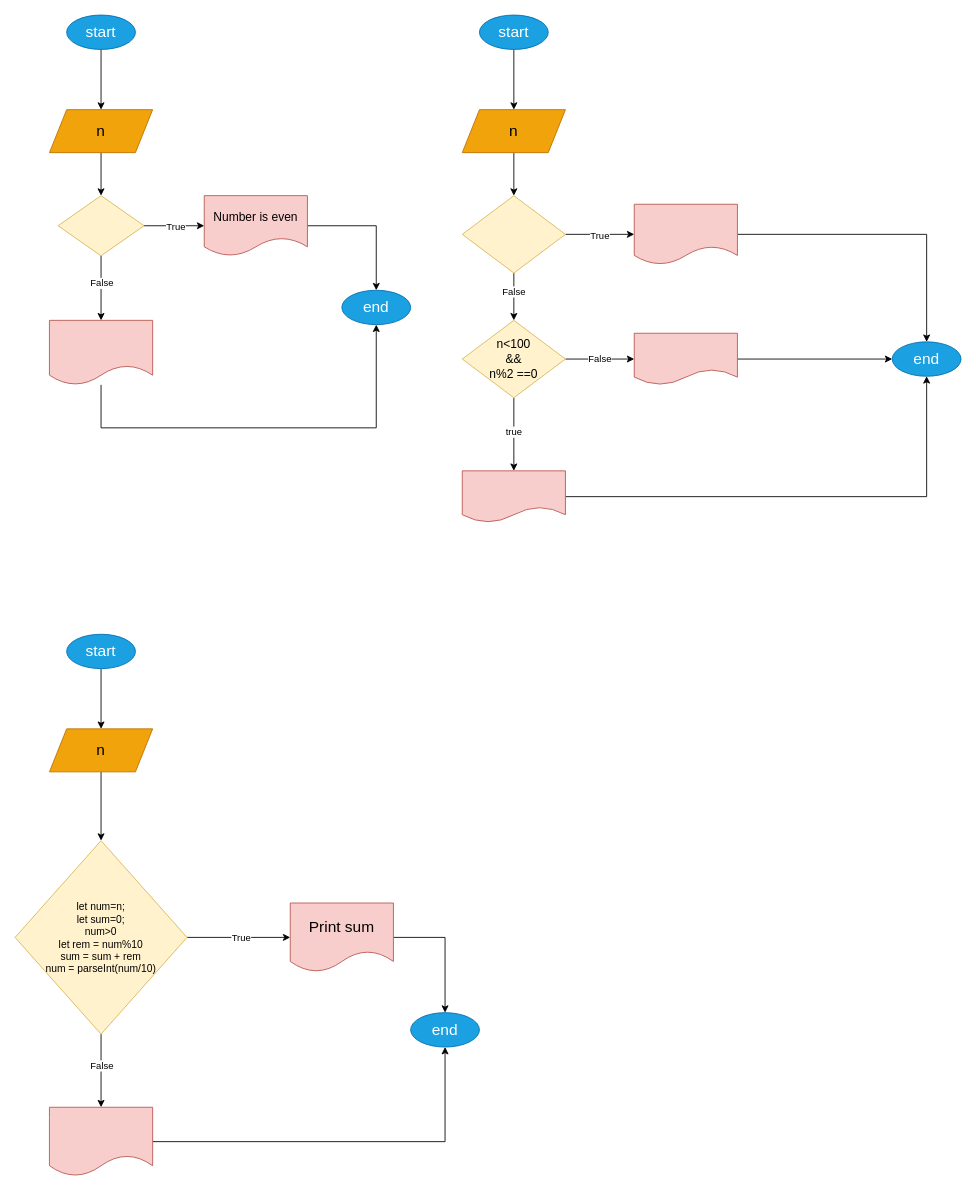
Image size: 976x1191. Some labels were removed from this diagram. Here are the shapes that lost their labels. From the top down, the centre of each, then its label:
the point at 100,225: n%2==0
the point at 513,234: n>100 && n%2 !==0
the point at 685,233: number is greater than 100 (odd number)
the point at 101,352: Number is odd
the point at 685,358: number is incorrect
the point at 513,496: number is less than 100(even number)
the point at 101,1141: Don't print
